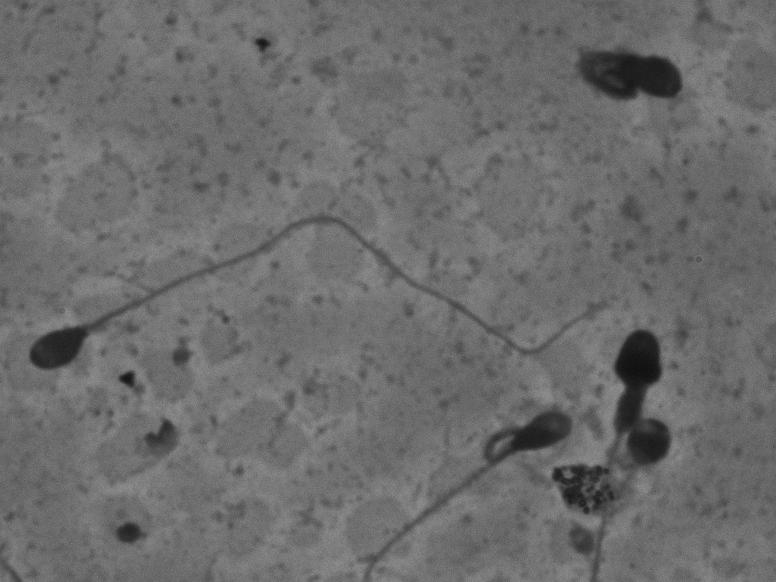Abnormal: (15, 161, 609, 371), (339, 398, 586, 569), (601, 321, 707, 571), (559, 28, 708, 132)
